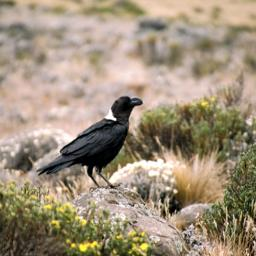Crow: (34, 92, 146, 192)
